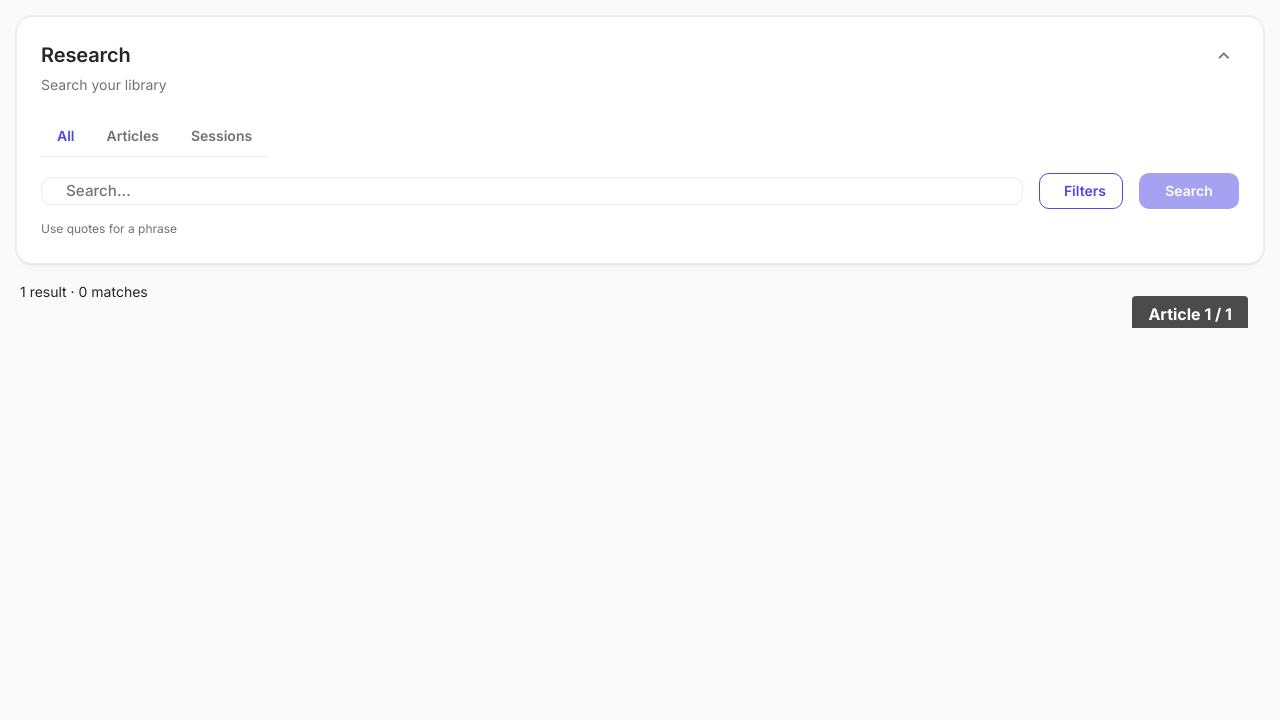
it: Research View › sorts numbered filter labels numerically
This screenshot has width=1280, height=720.
Click the button "Filters". click: [1081, 191]
box: [1039, 173, 1123, 209]
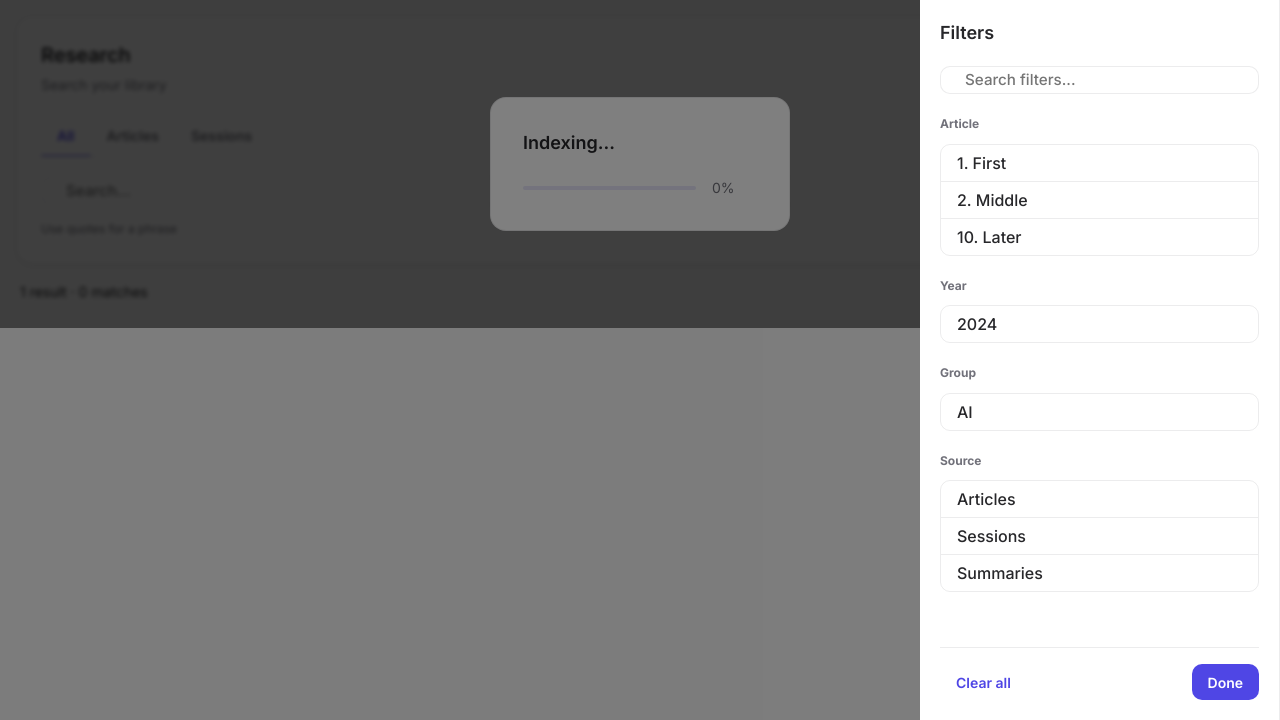
Expected: the button "1. First" is shown, [941, 145, 1258, 181]
